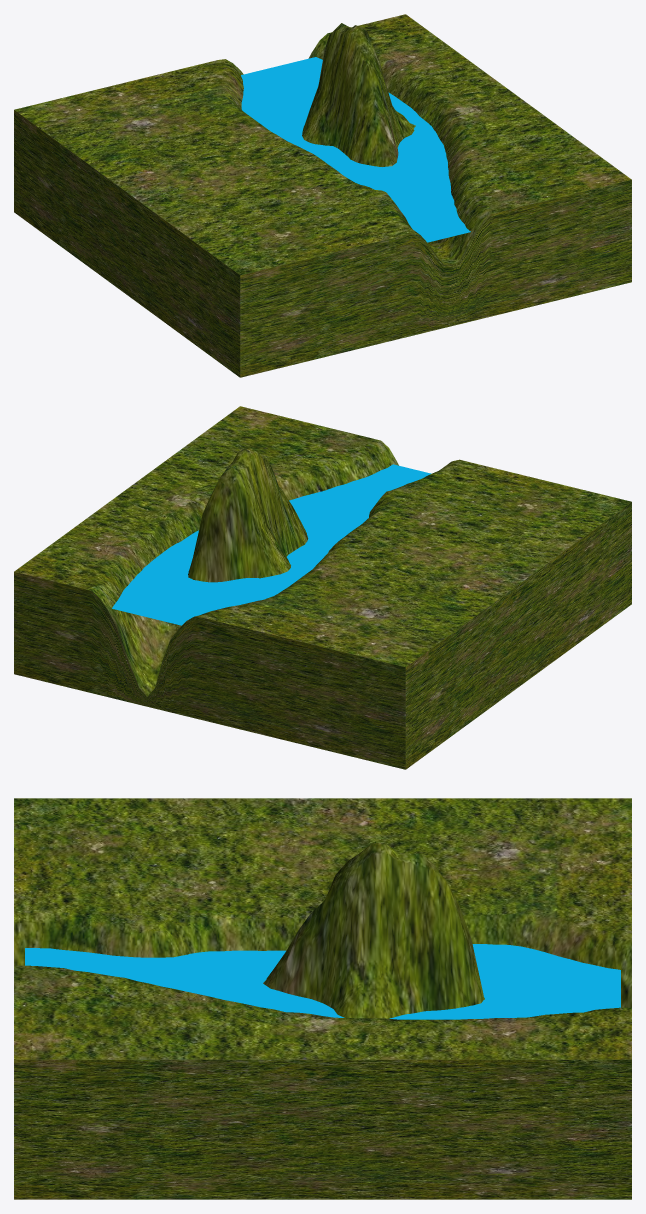
Rendered from 分汊型河床.gltf.
3 views of the same model, one above another, from view 1: azimuth 30°, elevation 25°; view 2: azimuth 150°, elevation 25°; view 3: azimuth 270°, elevation 25° (orthographic). The views are drawn at different scales.
Parts seen in each view (by area): view 1: node_Box001_-2150, node_Plane_-2862, node_Box003_-2154; view 2: node_Box001_-2150, node_Plane_-2862, node_Box003_-2154, node_Box002_-2152; view 3: node_Box001_-2150, node_Box003_-2154, node_Plane_-2862.
Part boxes in pixels (x1,y1,x2,y2): node_Box001_-2150: (14, 14, 631, 377); node_Plane_-2862: (241, 57, 470, 242); node_Box003_-2154: (302, 23, 440, 166); node_Box001_-2150: (14, 406, 631, 769); node_Plane_-2862: (112, 464, 431, 625); node_Box003_-2154: (161, 447, 334, 582); node_Box002_-2152: (143, 617, 181, 657); node_Box001_-2150: (14, 798, 631, 1199); node_Box003_-2154: (263, 843, 484, 1018); node_Plane_-2862: (25, 944, 620, 1019).
Bounding box in the file's own units: 2.54 × 1.19 × 2.54.
